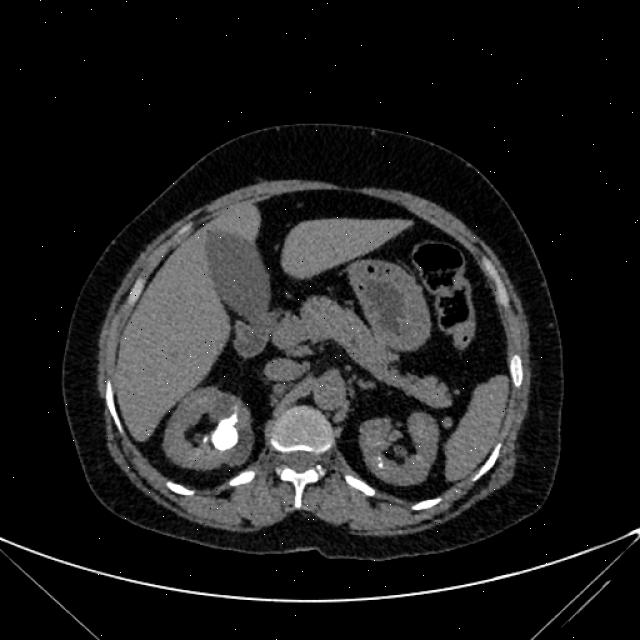kidneystone: (214, 408, 239, 451), (376, 454, 384, 468), (202, 435, 209, 443)
